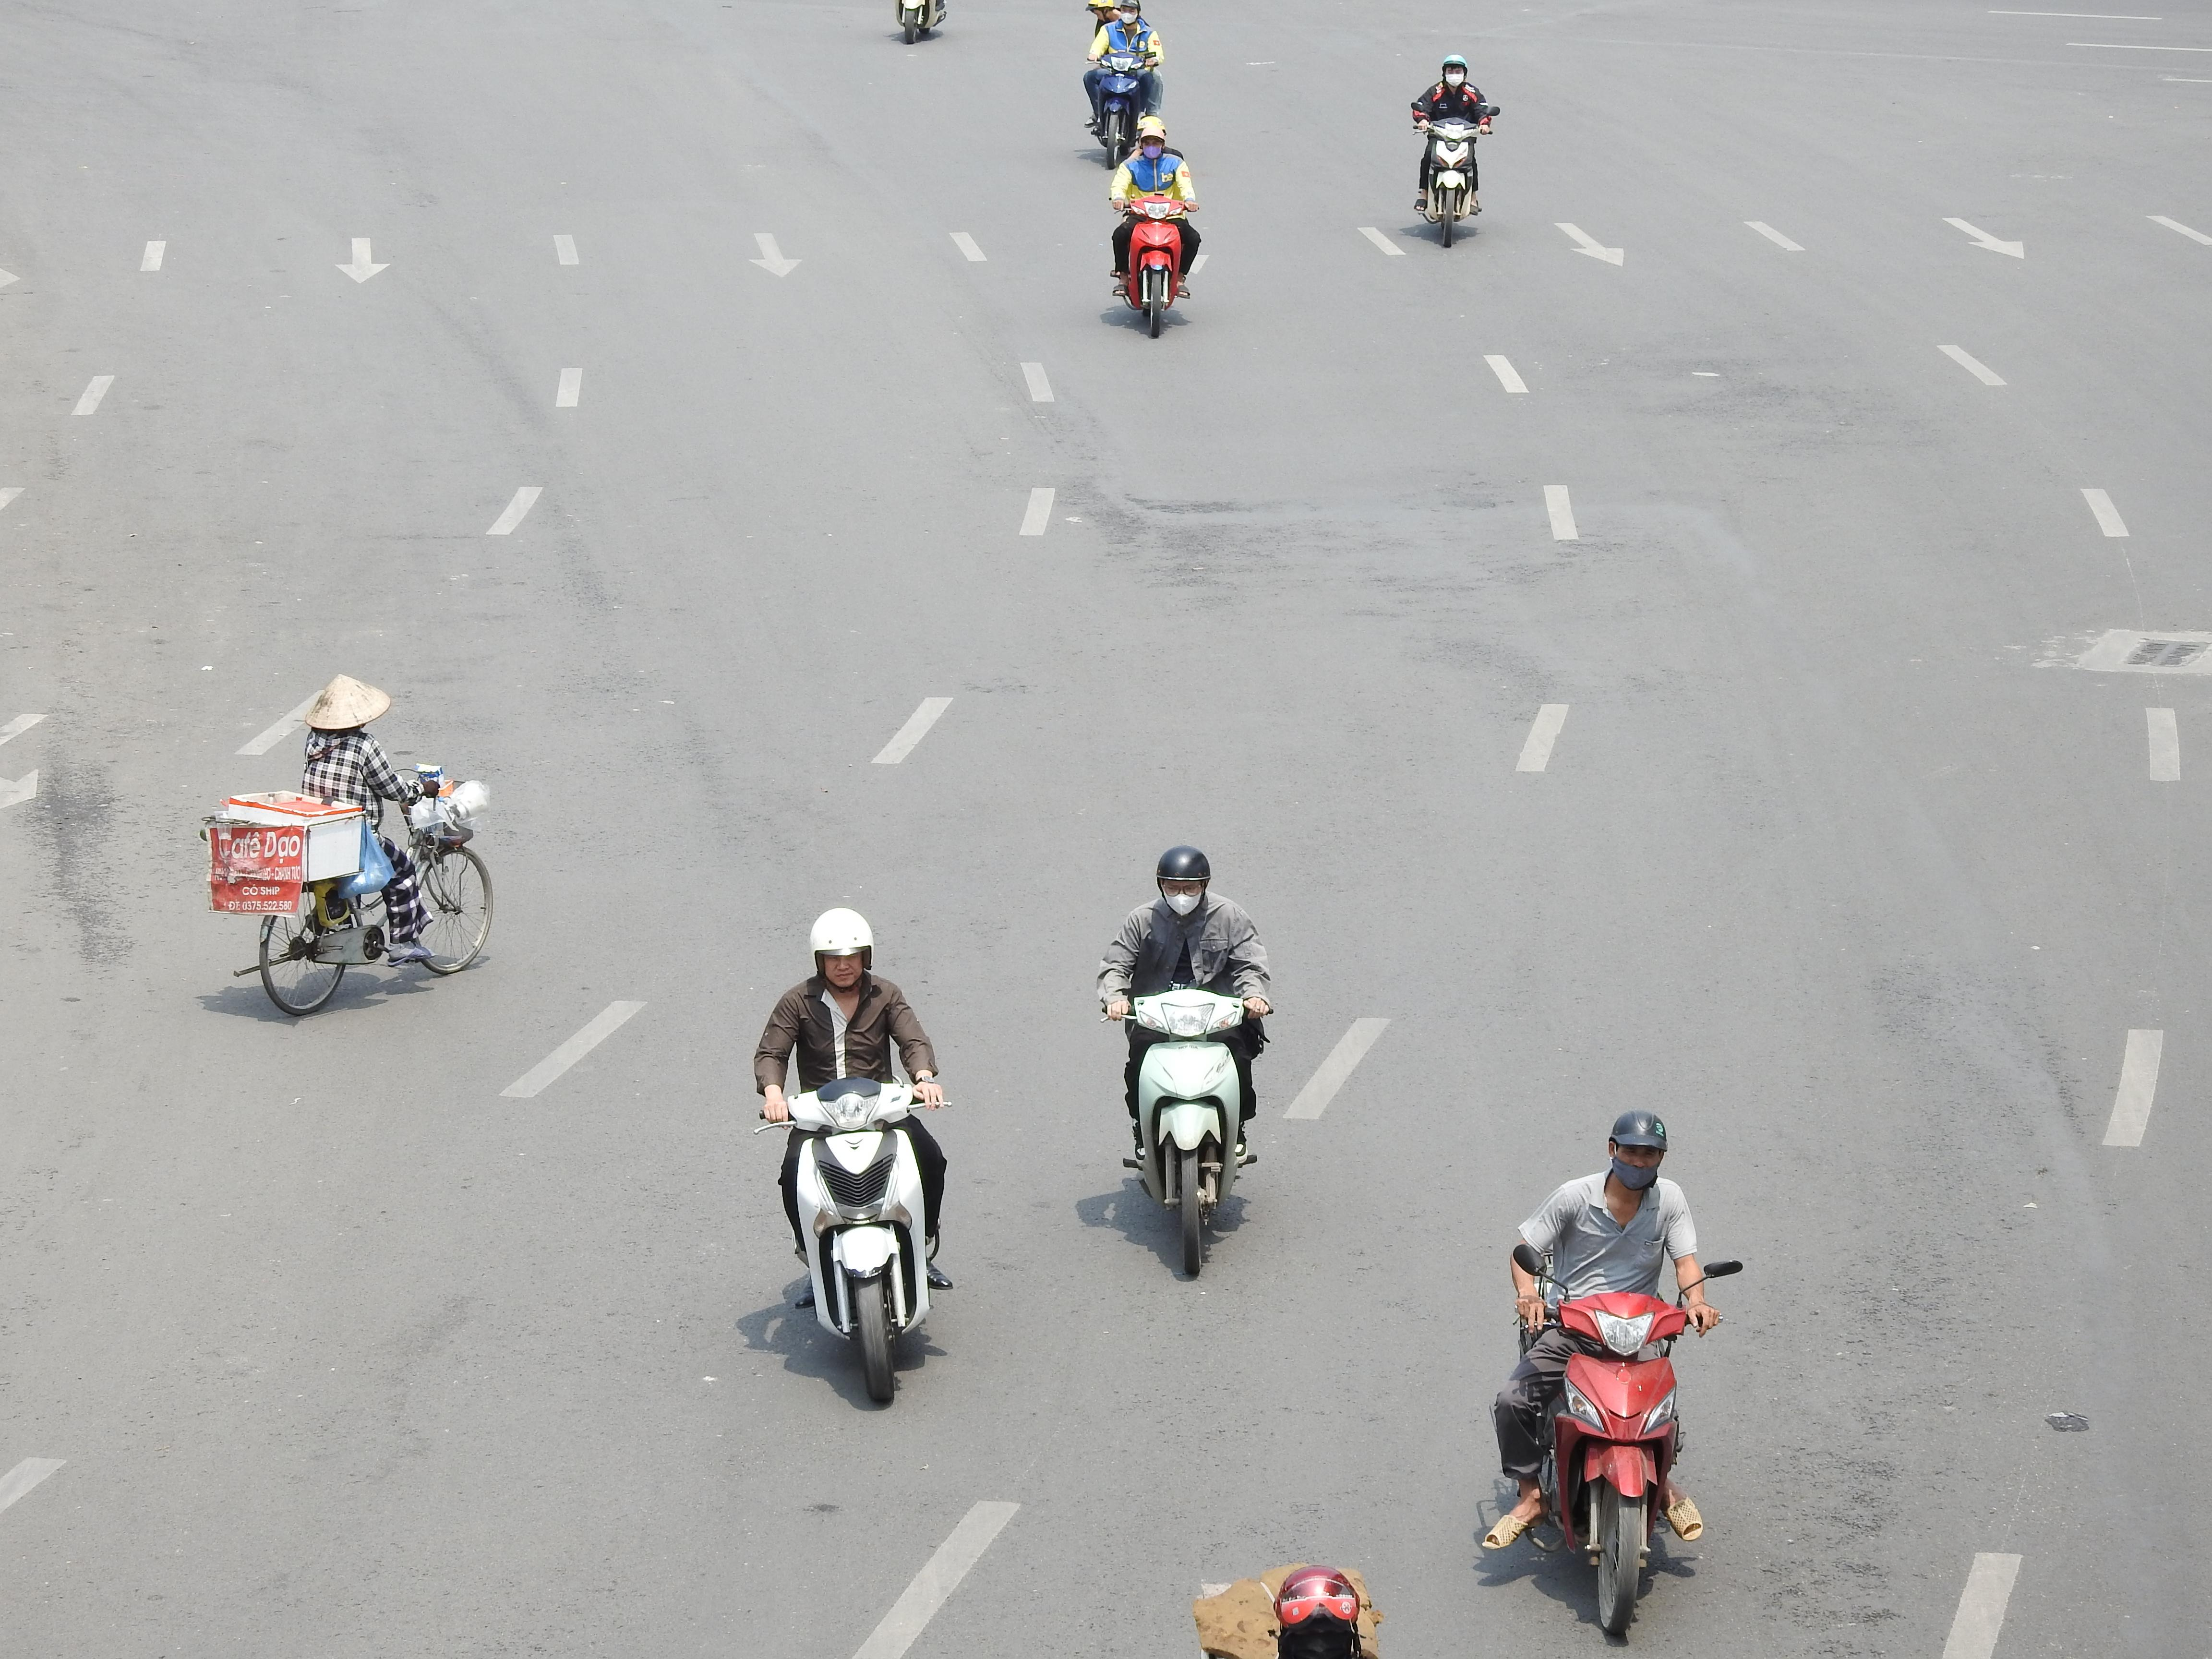motorbike: (1480, 1107, 1731, 1647), (756, 906, 954, 1408), (207, 674, 495, 1018), (1099, 843, 1273, 1281), (1109, 117, 1200, 340), (1411, 54, 1494, 249), (1083, 0, 1163, 166)
